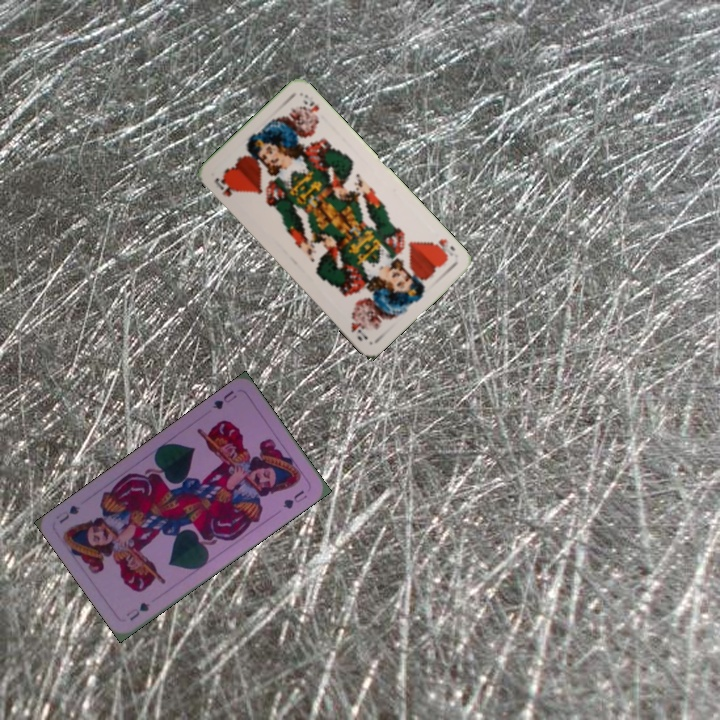GU: (208, 386, 240, 412), (122, 598, 152, 623)
HO: (210, 172, 240, 200), (427, 235, 457, 262)
